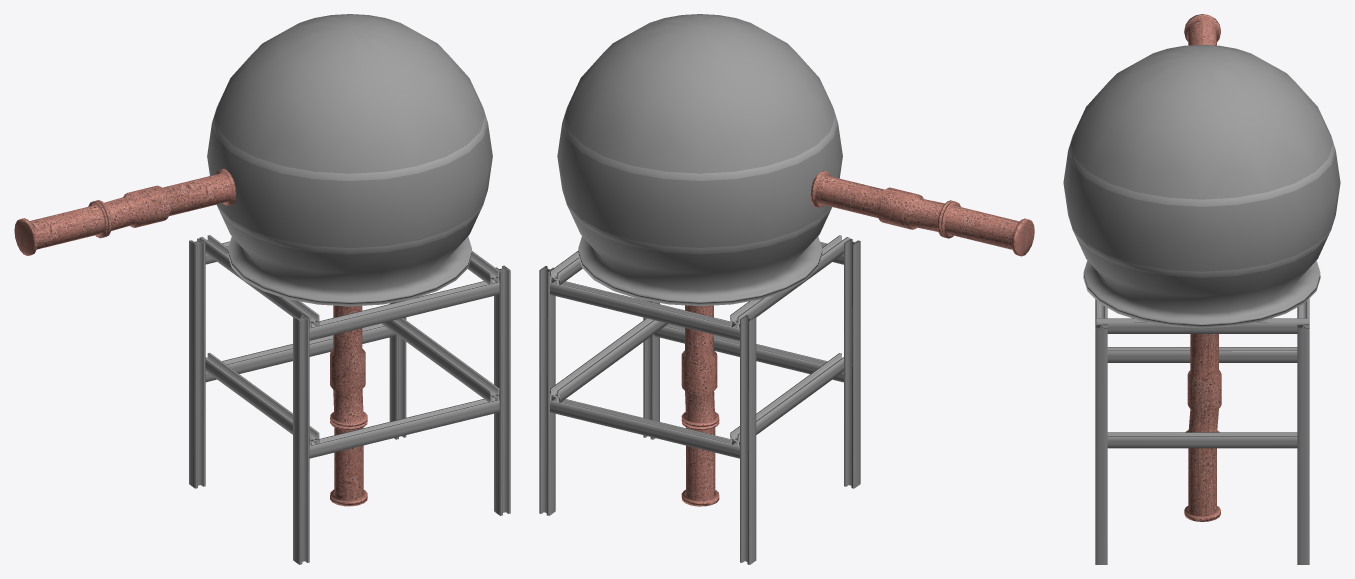
Rendered from tank_sphere.fbx.
The picture shows the model from 3 angles, left to right: view 1: azimuth 30°, elevation 25°; view 2: azimuth 150°, elevation 25°; view 3: azimuth 270°, elevation 25°; orthographic projection. The views are drawn at different scales.
Parts seen in each view (by area): view 1: Mesh; view 2: Mesh; view 3: Mesh.
Part boxes in pixels (x1,y1,x2,y2): Mesh: [14, 14, 510, 564]; Mesh: [539, 14, 1034, 564]; Mesh: [1063, 14, 1340, 564].
Size of the model in its own units: 483 by 485 by 266.
